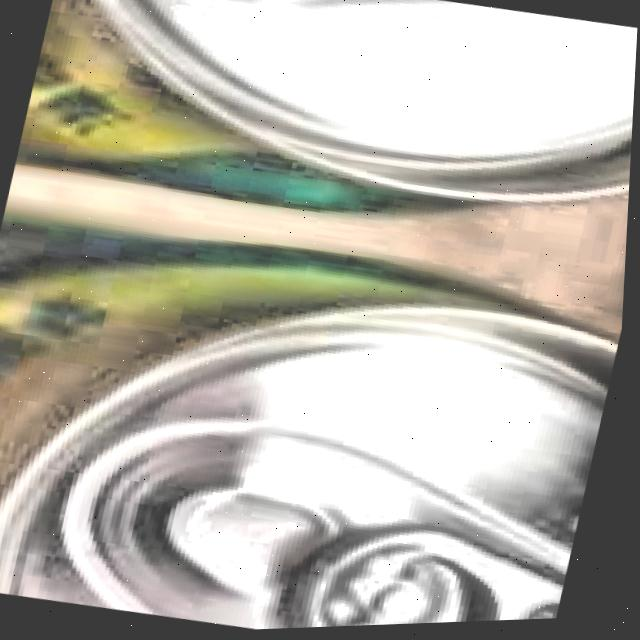metal: (0, 166, 632, 640), (8, 0, 640, 288)
